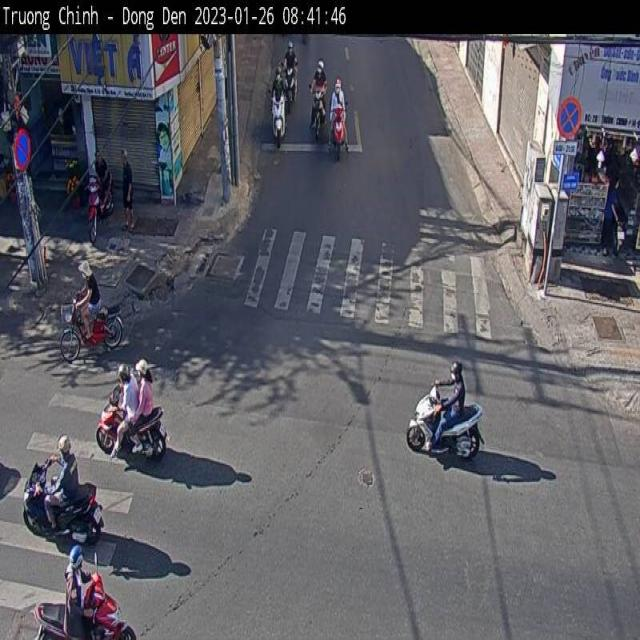with_helmet: (64, 543, 88, 601), (446, 350, 469, 402), (59, 435, 79, 484), (136, 354, 156, 396), (118, 358, 134, 400), (79, 258, 98, 292), (271, 62, 287, 92), (333, 80, 345, 106), (285, 42, 297, 66), (316, 60, 326, 82)
